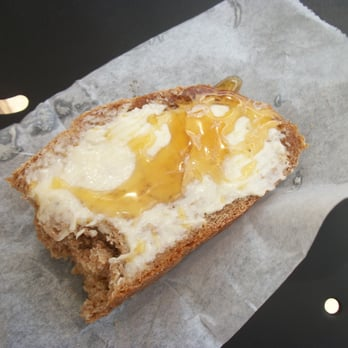slice of bread: (22, 106, 300, 244)
